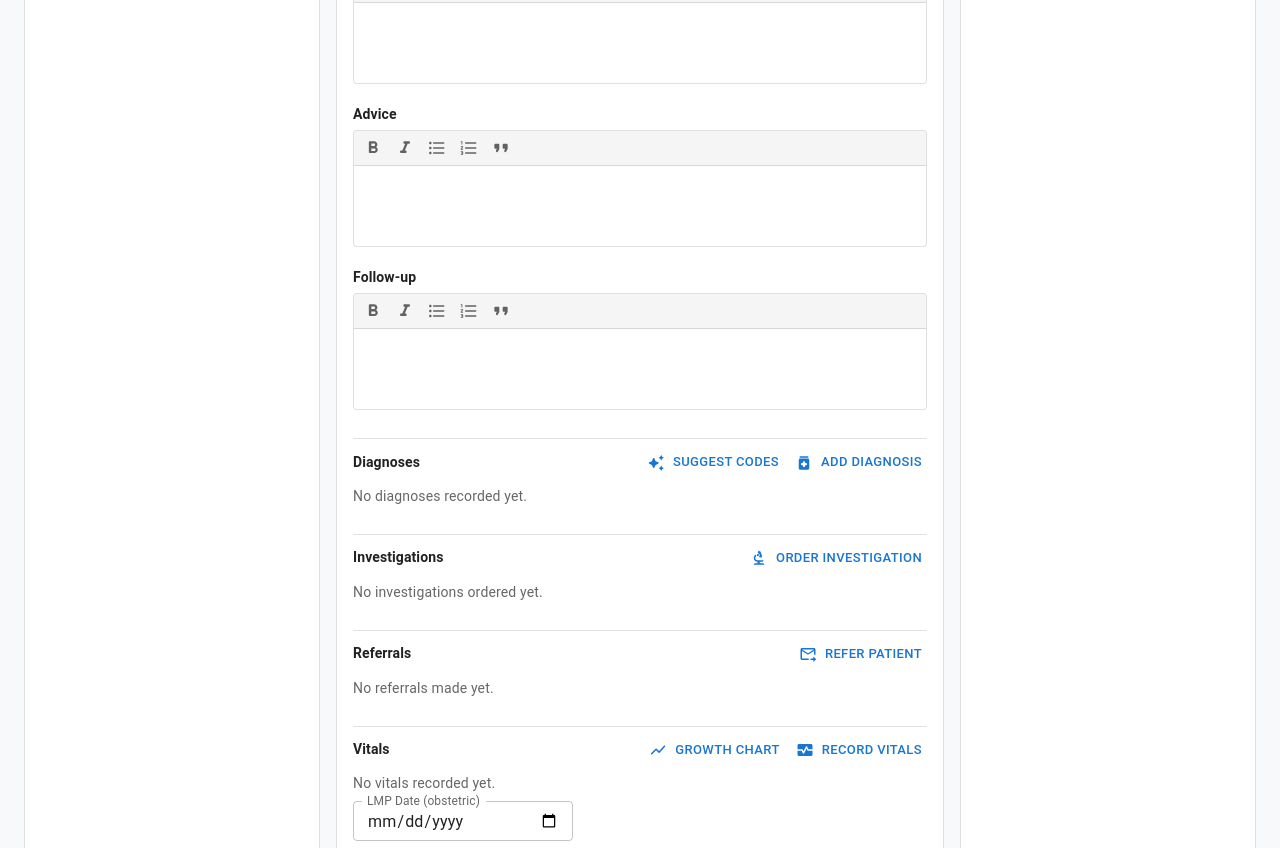
Test: EncounterWorkspace — diagnoses + save-as-template (A-5/A-6) › adds a procedure via the real createDiagnosis mutation, using the procedure-code search
The width and height of the screenshot is (1280, 848).
(page scrolled)
Check: the text "No diagnoses recorded yet." is shown, box [353, 488, 527, 504]
Step 1. Click the button "Add Diagnosis" → click(860, 463), box [792, 447, 927, 478]
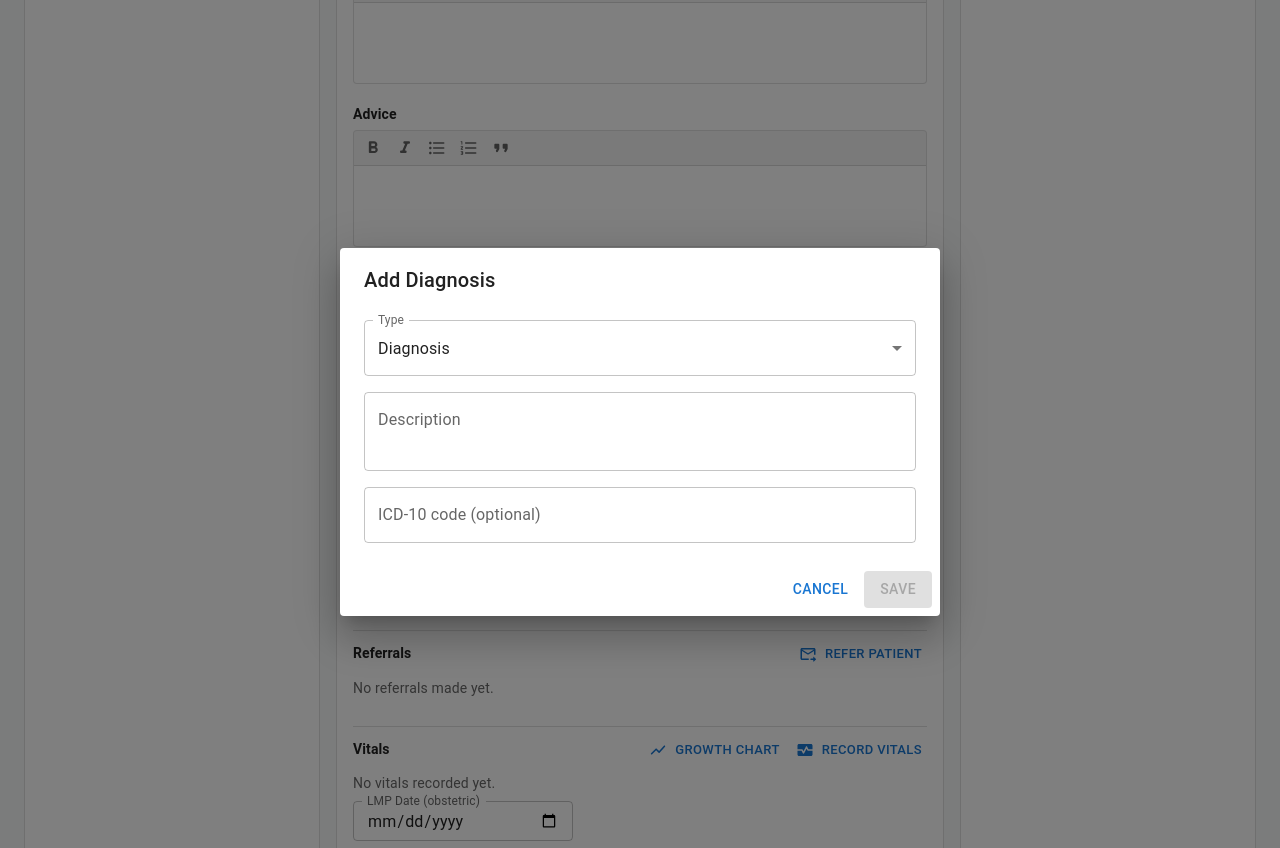
Step 2. Select "Procedure" in the dropdown labelled "Type" → (640, 348), box [364, 320, 916, 376]
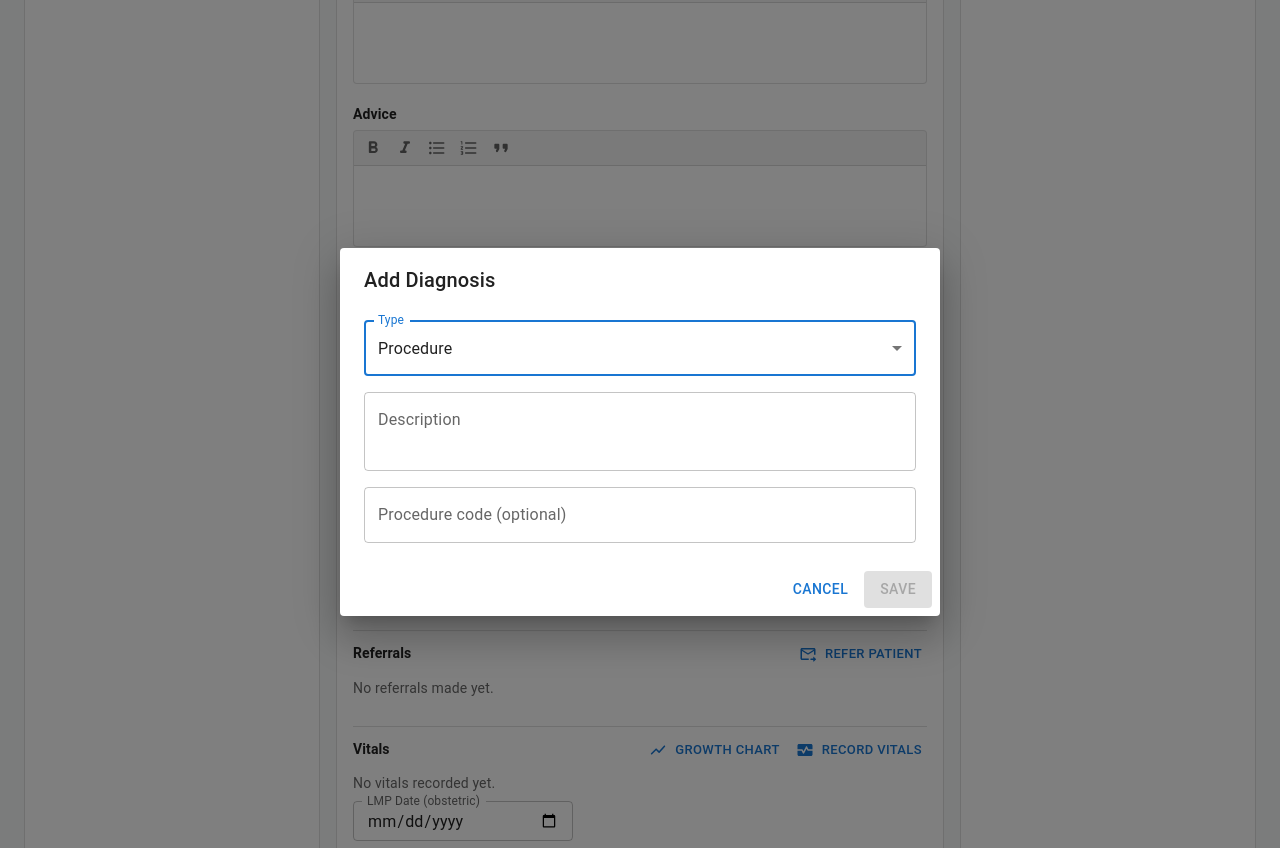
Step 3. Type "Dressing change" into the text box labelled "Description" → (640, 432), box [378, 409, 902, 455]
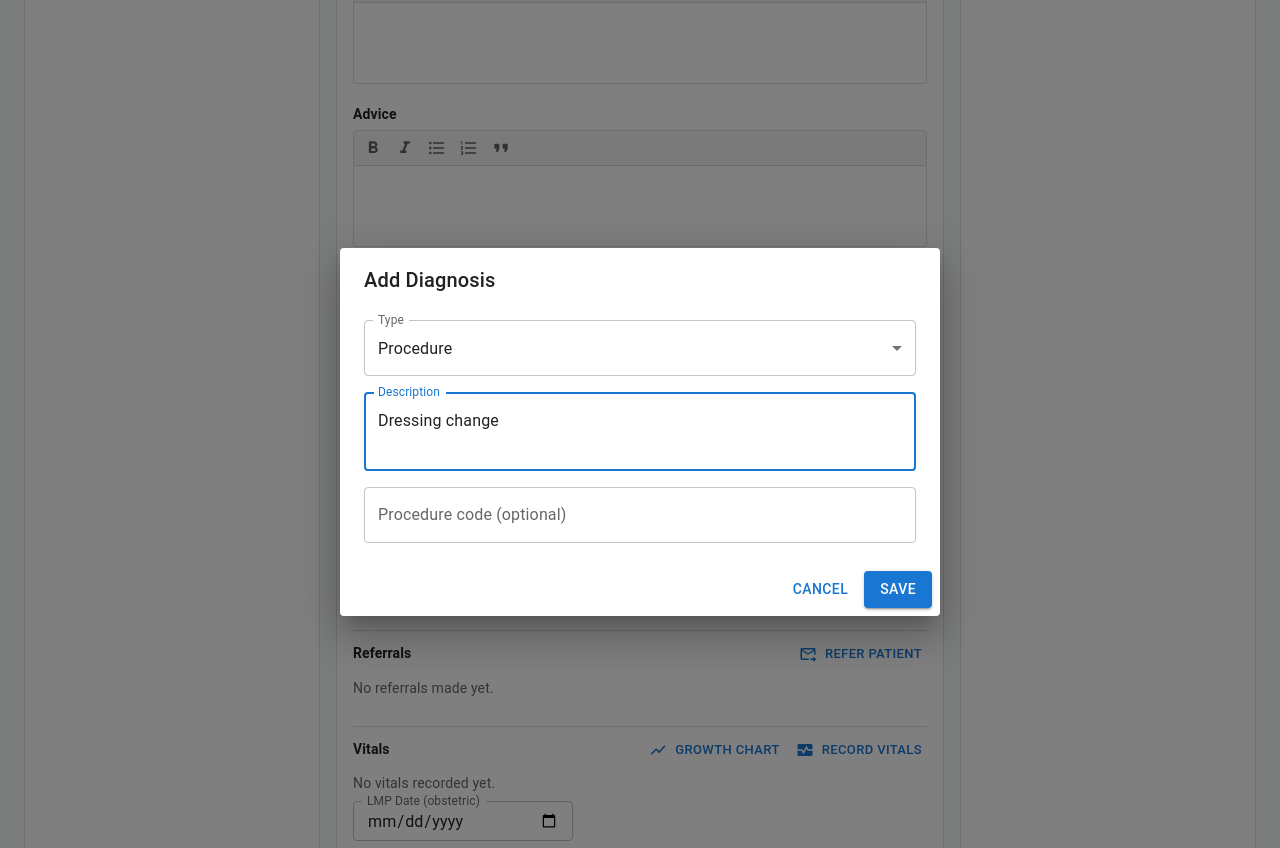
Step 4. Type "PR-0" into the dropdown labelled "Procedure code (optional)" → (640, 515), box [373, 496, 907, 534]
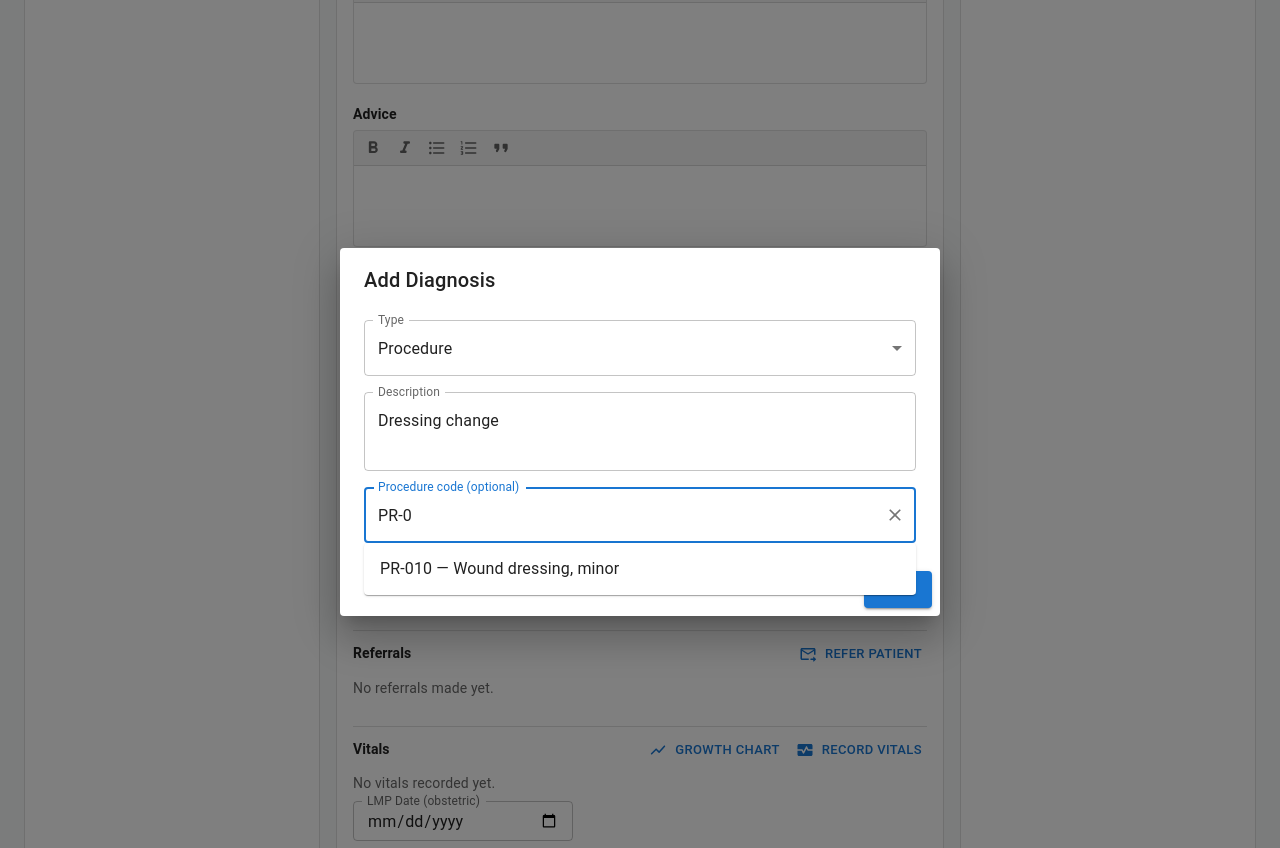
Step 5. Click the option "PR-010 — Wound dressing, minor" → click(500, 568), box [380, 559, 620, 578]
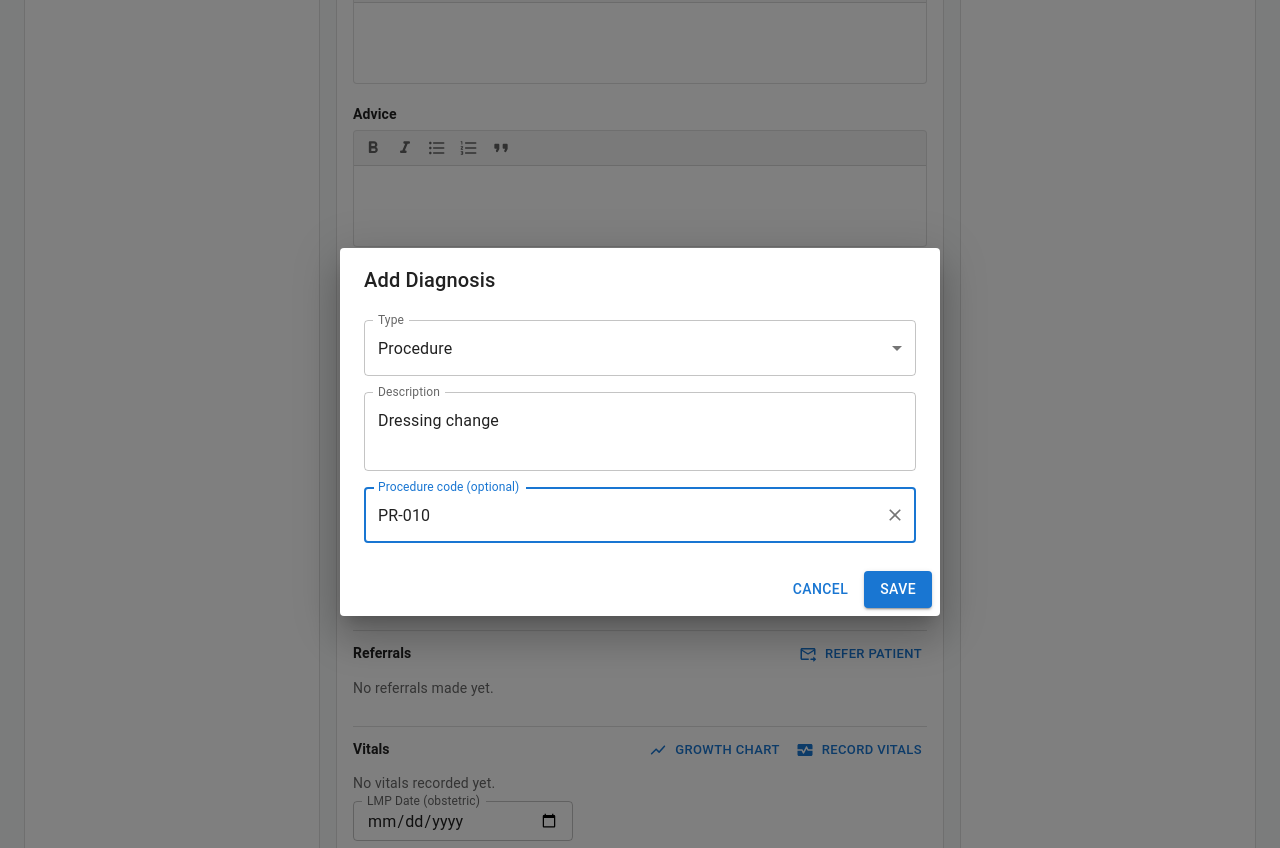
Step 6. Click the button "Save" → click(898, 590), box [864, 571, 932, 608]
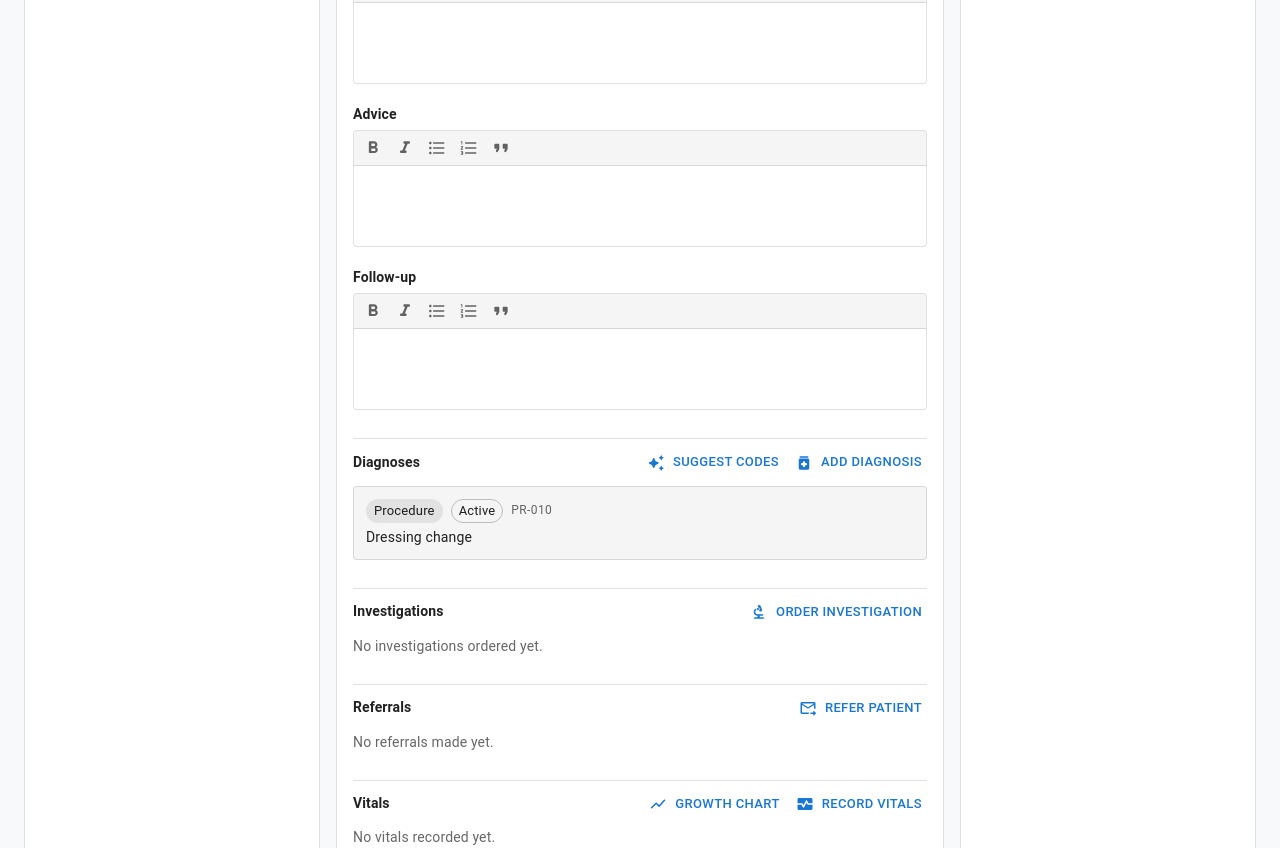
Check: the text "Dressing change" is shown, box [366, 529, 472, 545]
Check: the text "PR-010" is shown, box [511, 501, 552, 521]
